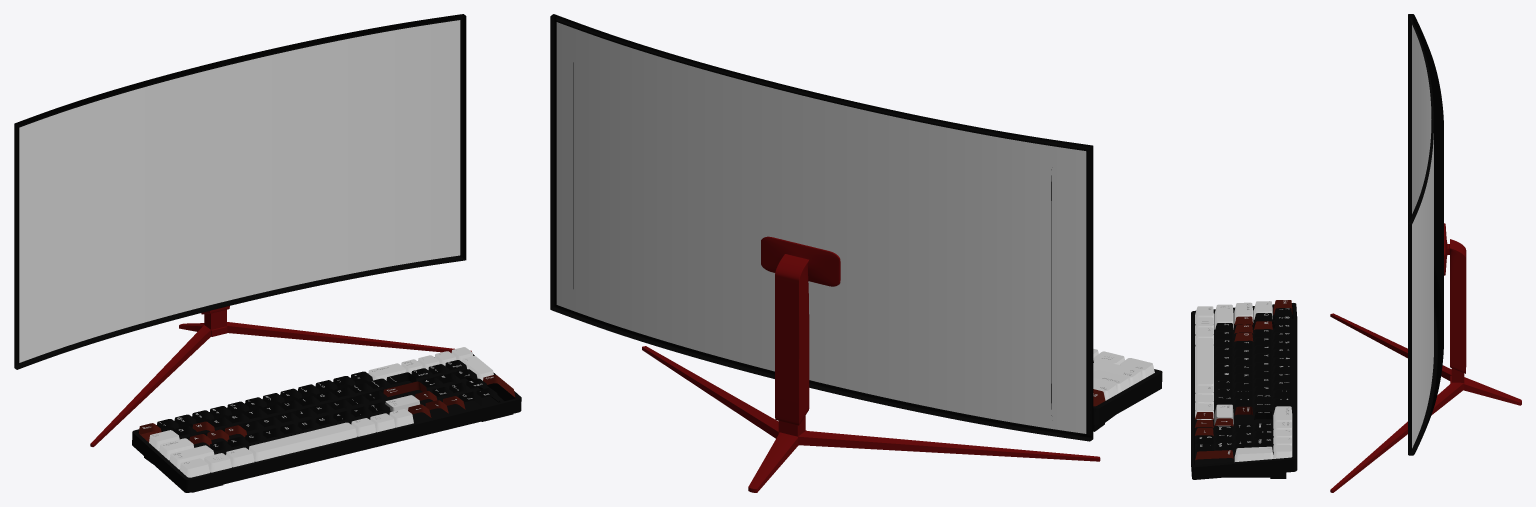
Rendered from pc-mingtu.glb.
3 views of the same model, side by side, from view 1: azimuth 30°, elevation 25°; view 2: azimuth 150°, elevation 25°; view 3: azimuth 270°, elevation 25° (orthographic). The views are drawn at different scales.
Parts seen in each view (by area): view 1: Plane.001, base.001, Black Keys.001, Grey Keys.001, Cube.004, Red keys.001, Letters.001, Cube.003; view 2: Plane.001, Cube.003, Cube.004, Grey Keys.001, base.001, Cube.005; view 3: Plane.001, Black Keys.001, base.001, Grey Keys.001, Cube.003, Cube.004, Red keys.001, Letters.001, Cube.005.
Boxes of the visible parts, <box> form: Plane.001: <box>14,14,466,369</box>; base.001: <box>132,354,521,492</box>; Black Keys.001: <box>157,360,498,451</box>; Grey Keys.001: <box>149,347,493,477</box>; Cube.004: <box>90,322,471,446</box>; Red keys.001: <box>139,374,515,445</box>; Letters.001: <box>142,350,493,463</box>; Cube.003: <box>201,306,229,336</box>; Plane.001: <box>550,14,1093,441</box>; Cube.003: <box>761,236,840,436</box>; Cube.004: <box>642,346,1100,461</box>; Grey Keys.001: <box>1093,349,1154,400</box>; base.001: <box>1093,369,1162,431</box>; Cube.005: <box>748,432,798,492</box>; Plane.001: <box>1408,14,1443,455</box>; Black Keys.001: <box>1195,308,1292,452</box>; base.001: <box>1191,303,1297,479</box>; Grey Keys.001: <box>1195,301,1292,461</box>; Cube.003: <box>1444,223,1466,383</box>; Cube.004: <box>1330,313,1464,492</box>; Red keys.001: <box>1194,300,1292,460</box>; Letters.001: <box>1199,300,1289,454</box>; Cube.005: <box>1464,377,1521,405</box>.
Size of the model in its own units: 3.85 by 2.46 by 2.57.
